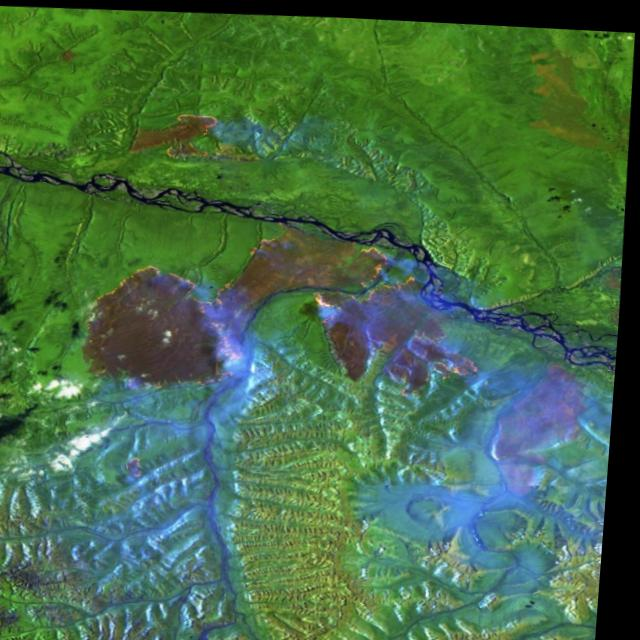fire: (73, 202, 500, 406), (156, 97, 241, 166), (117, 441, 164, 484)
